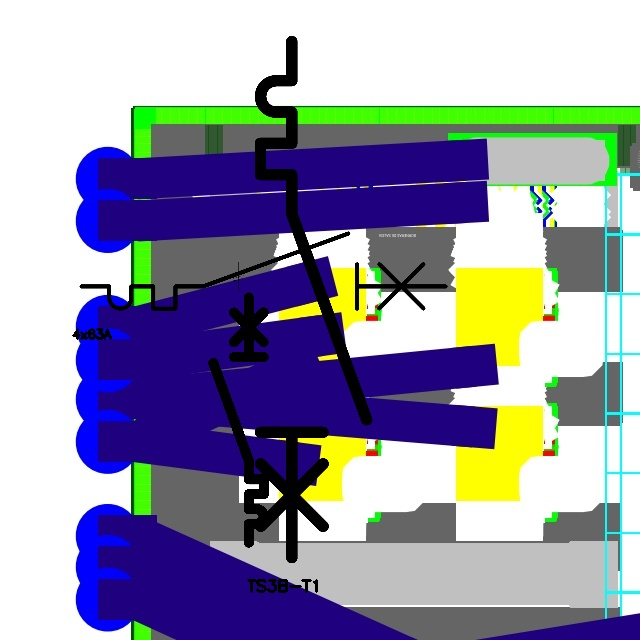interruptor_termomagnetico: (247, 28, 380, 571), (72, 224, 455, 318), (207, 291, 270, 549)
